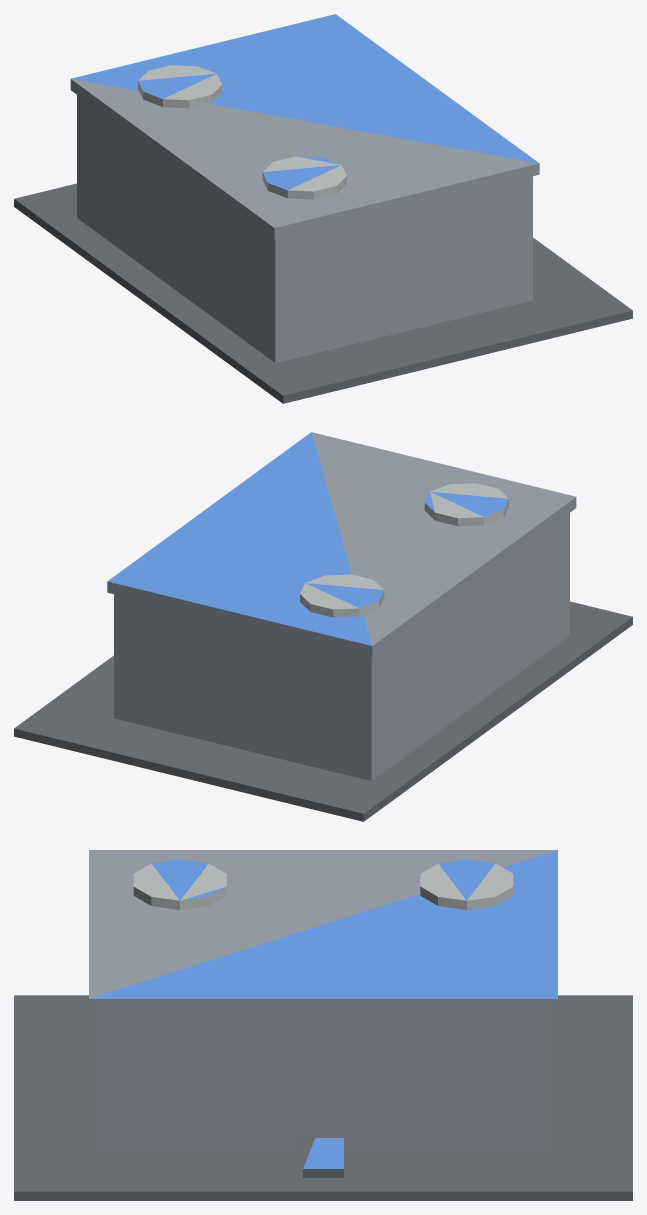
Rendered from veyran_refinery.glb.
3 views of the same model, one above another, from view 1: azimuth 30°, elevation 25°; view 2: azimuth 150°, elevation 25°; view 3: azimuth 270°, elevation 25° (orthographic). The views are drawn at different scales.
Parts seen in each view (by area): view 1: hull; view 2: hull; view 3: hull, belt.
Part boxes in pixels (x1,y1,x2,y2): hull: (14, 14, 632, 403); hull: (14, 432, 632, 821); hull: (14, 850, 632, 1200); belt: (303, 1138, 343, 1177).
Bounding box in the file's own units: 11.4 × 4.8 × 15.2.
